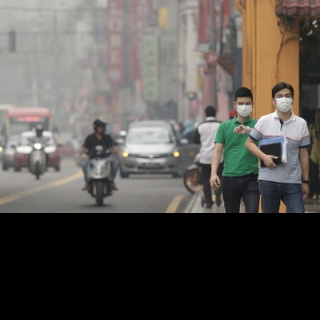with_mask: (275, 92, 292, 113), (236, 100, 253, 119)
